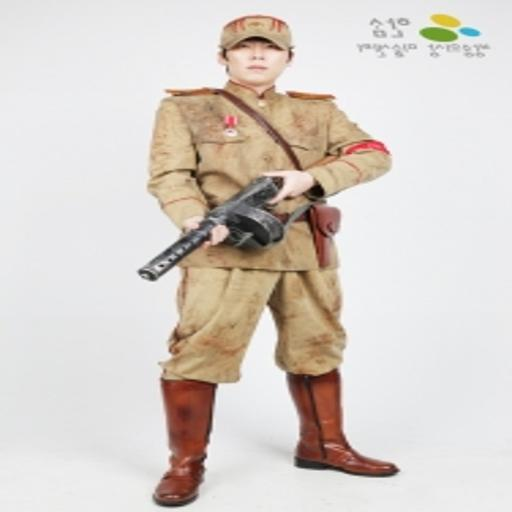north army: (154, 24, 405, 428)
